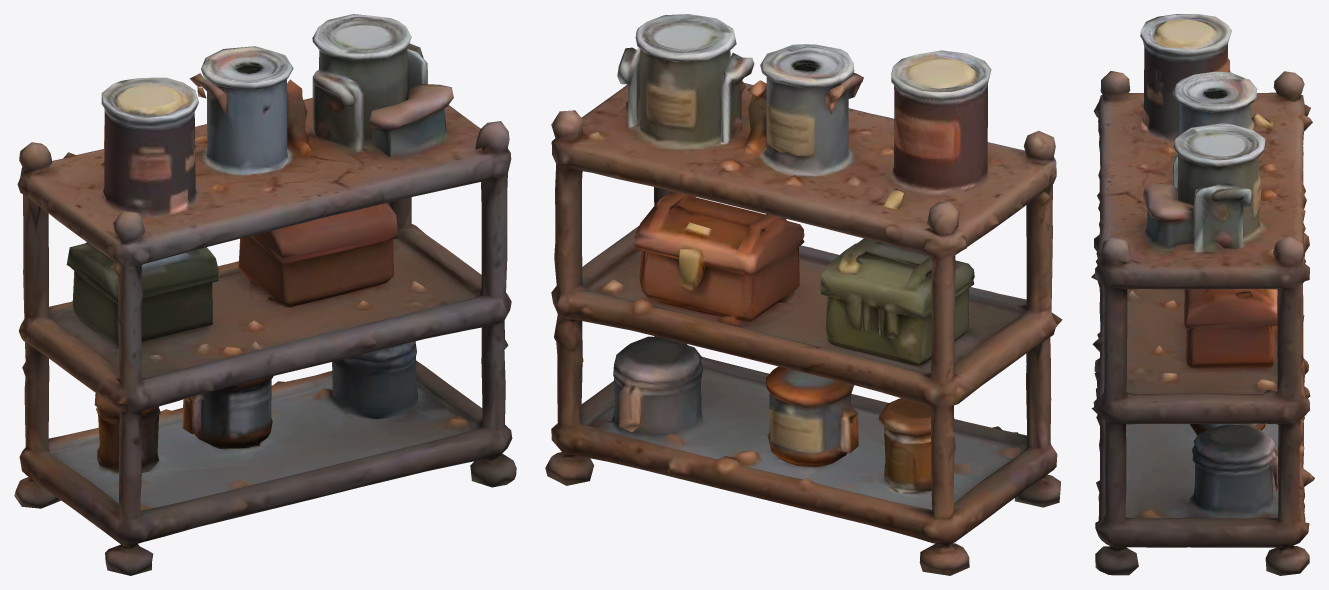
Rendered from deco_shelf.glb.
The picture shows the model from 3 angles, left to right: view 1: azimuth 30°, elevation 25°; view 2: azimuth 150°, elevation 25°; view 3: azimuth 270°, elevation 25°; orthographic projection. The views are drawn at different scales.
Visible parts, largest first — view 1: tripo_node_b9d9fa9b-1b97-4dde-a6de-877225645413; view 2: tripo_node_b9d9fa9b-1b97-4dde-a6de-877225645413; view 3: tripo_node_b9d9fa9b-1b97-4dde-a6de-877225645413.
Boxes of the visible parts, x1,y1,x2,y2 form: tripo_node_b9d9fa9b-1b97-4dde-a6de-877225645413: (14,14,516,575); tripo_node_b9d9fa9b-1b97-4dde-a6de-877225645413: (545,14,1062,575); tripo_node_b9d9fa9b-1b97-4dde-a6de-877225645413: (1091,14,1314,575).
Size of the model in its own units: 0.9935 by 1 by 0.5101.
1 material, 1 textured.
